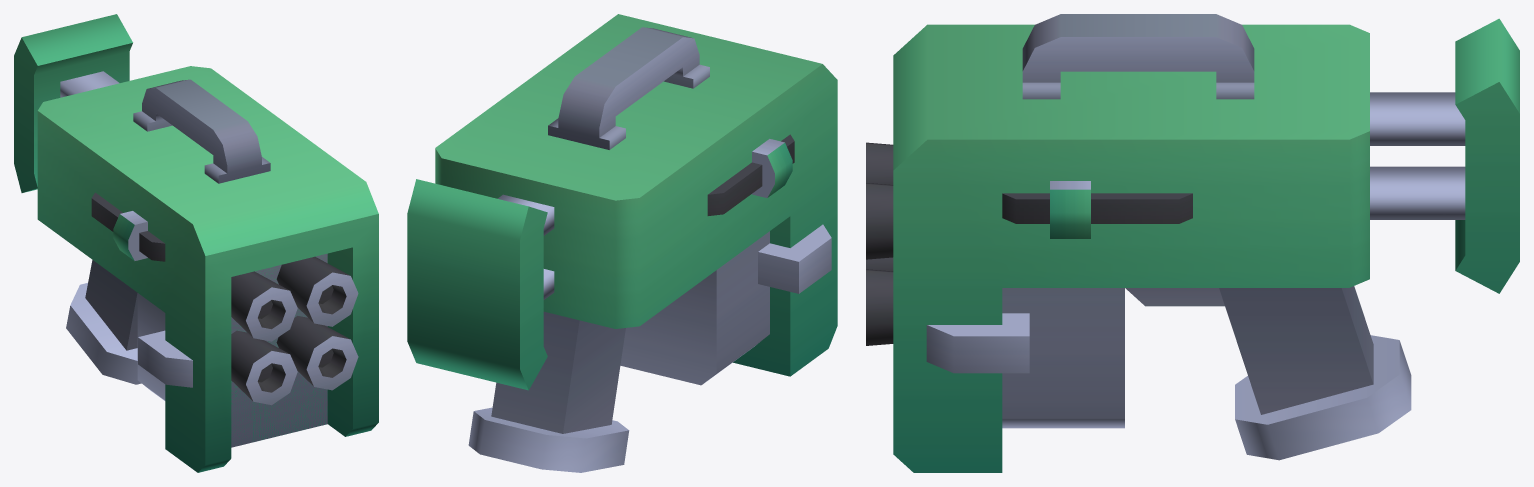
File: gun_shotgun.glb
3 renders of one model, left to right at view 1: azimuth 30°, elevation 25°; view 2: azimuth 150°, elevation 25°; view 3: azimuth 270°, elevation 25°, orthographic. The views are drawn at different scales.
Visible parts, largest first — view 1: blaster-o; view 2: blaster-o; view 3: blaster-o.
Part boxes in pixels (x1,y1,x2,y2): blaster-o: [14, 14, 378, 472]; blaster-o: [407, 14, 837, 472]; blaster-o: [866, 14, 1519, 472].
Bounding box in the file's own units: 0.2756 × 0.3755 × 0.54.
1 material, 1 textured.
